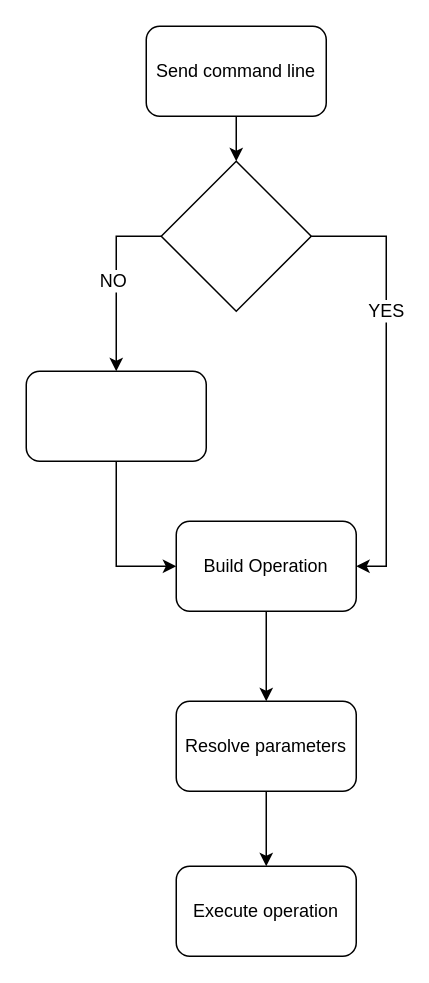
This 429x983 diagram has some shape labels left out. Each missing label, with the box of its shape:
Get from database: (25, 370, 206, 461)
Is Reserved keyword: (160, 160, 311, 311)
